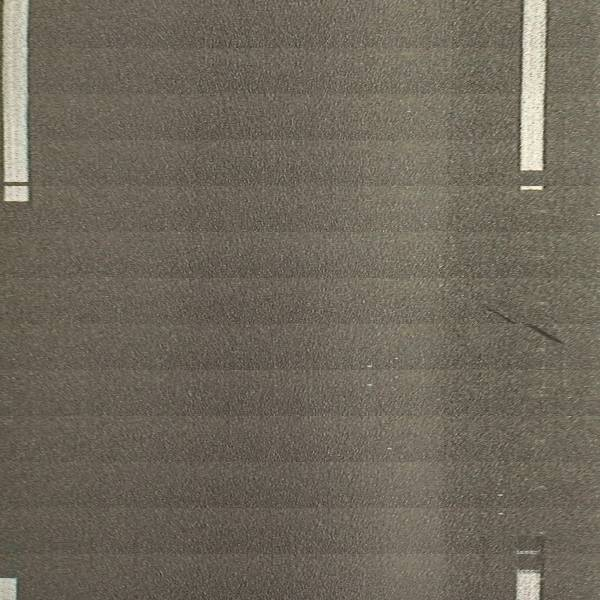road_damage: (489, 304, 566, 345)
